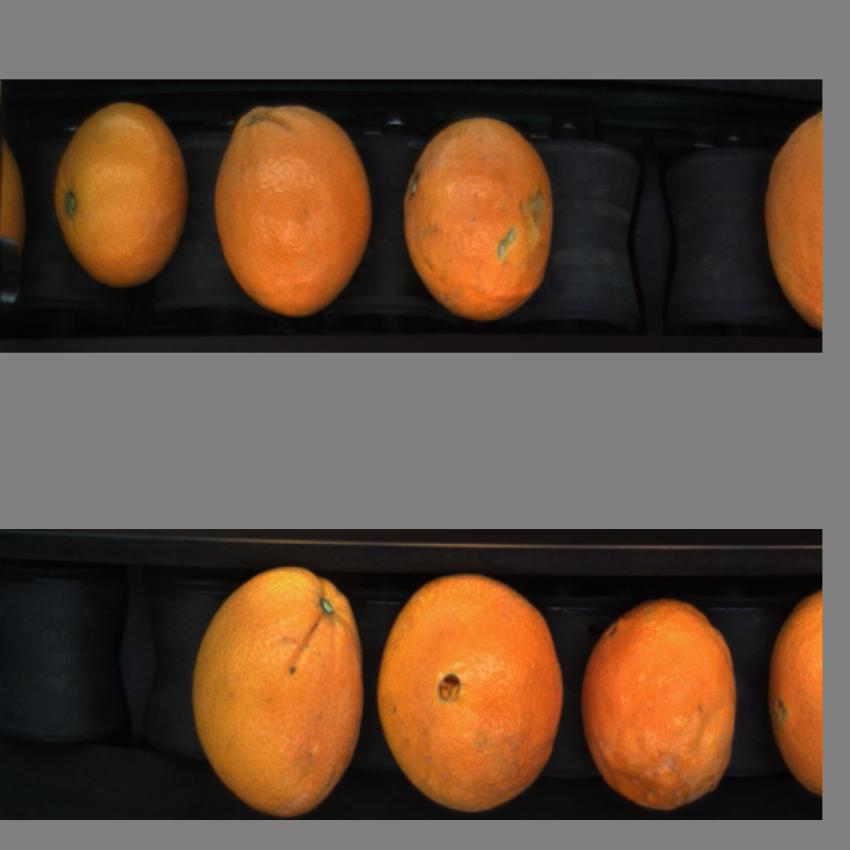Buen estado: (376, 564, 569, 814), (189, 555, 369, 815), (208, 99, 378, 325), (48, 101, 190, 296), (755, 109, 822, 339), (760, 590, 822, 798)
Mal estado: (580, 578, 738, 813), (399, 112, 561, 321)
